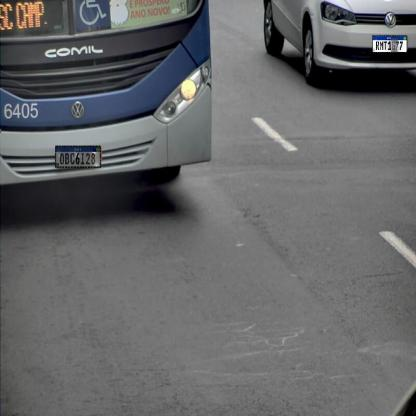PlacaM: (55, 146, 101, 168), (372, 35, 407, 53)
